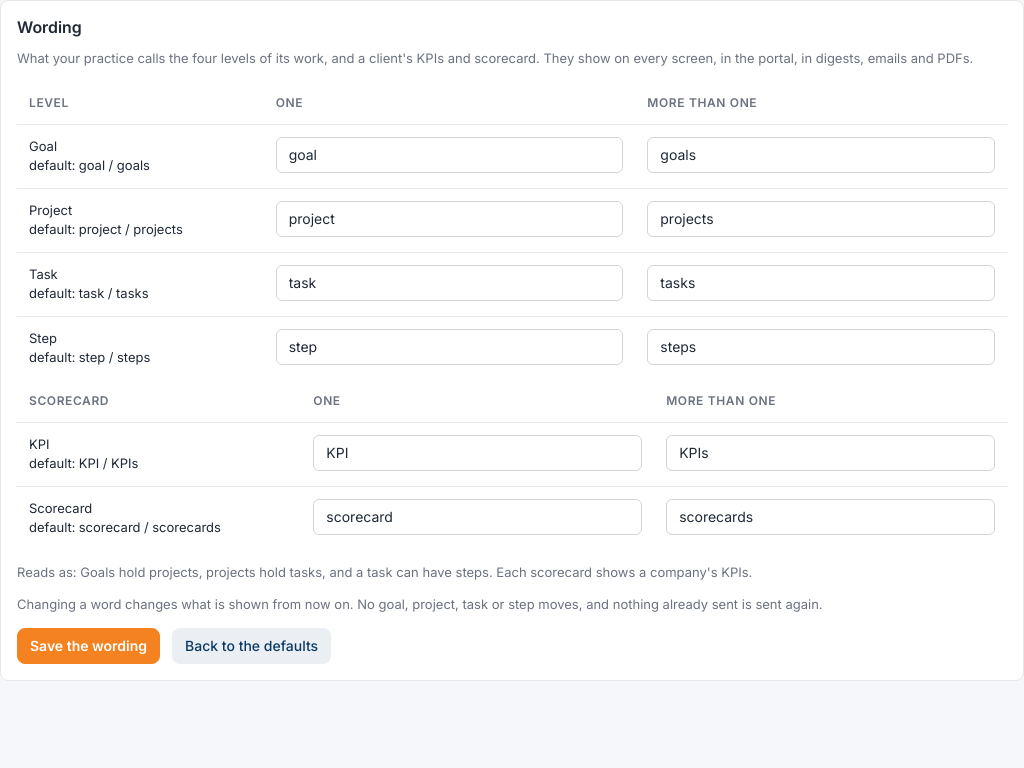
it: Settings → Branding → Wording › saves the four pairs and reads back how they sound together
Expected: the heading "Wording" is shown, [17,17,82,37]
Replace the text in the field named "Word for one task" with "action" at (449, 282), box [276,264,623,300]
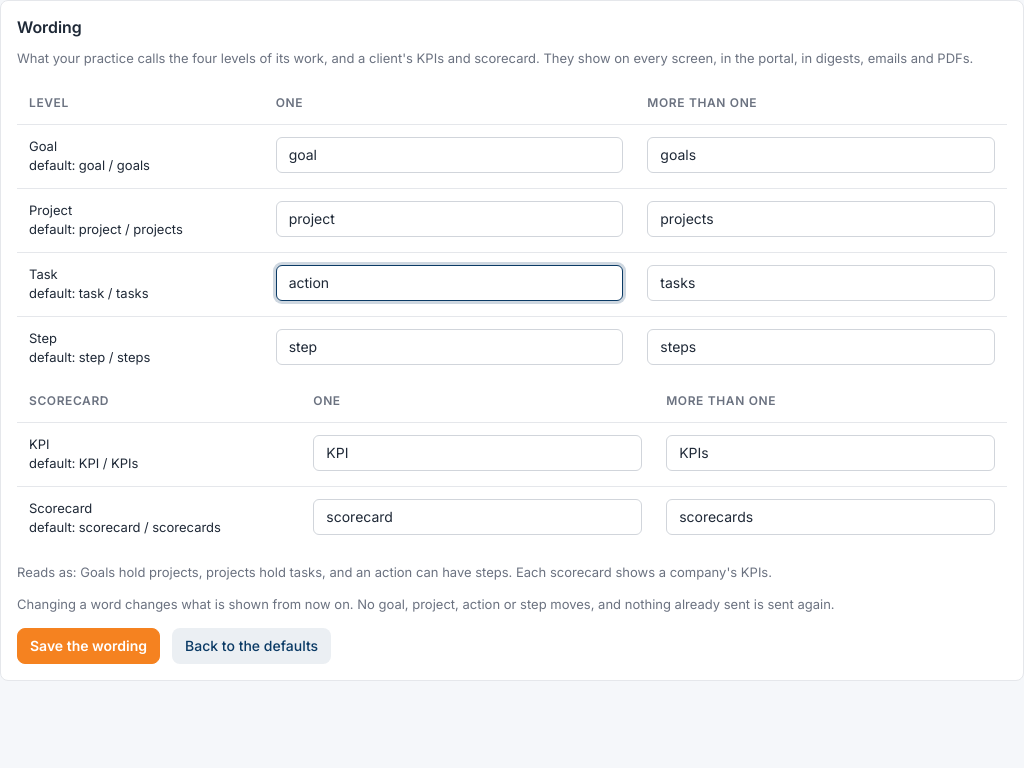
Replace the text in the field named "Word for more than one task" with "actions" at (821, 282), box [647,264,995,300]
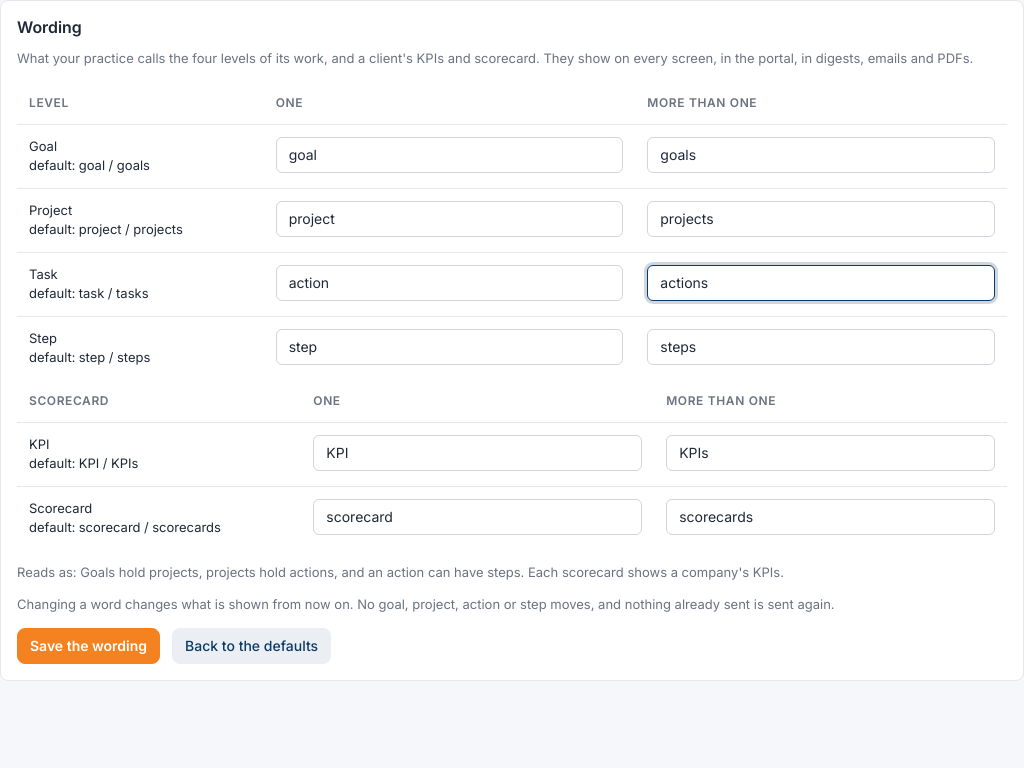
Now the text named "How it reads" shows "Reads as: Goals hold projects, projects hold actions, and an action can have steps.", box [17,564,784,580]
Click the button "Save the wording" at (89, 646), box [17,628,160,664]
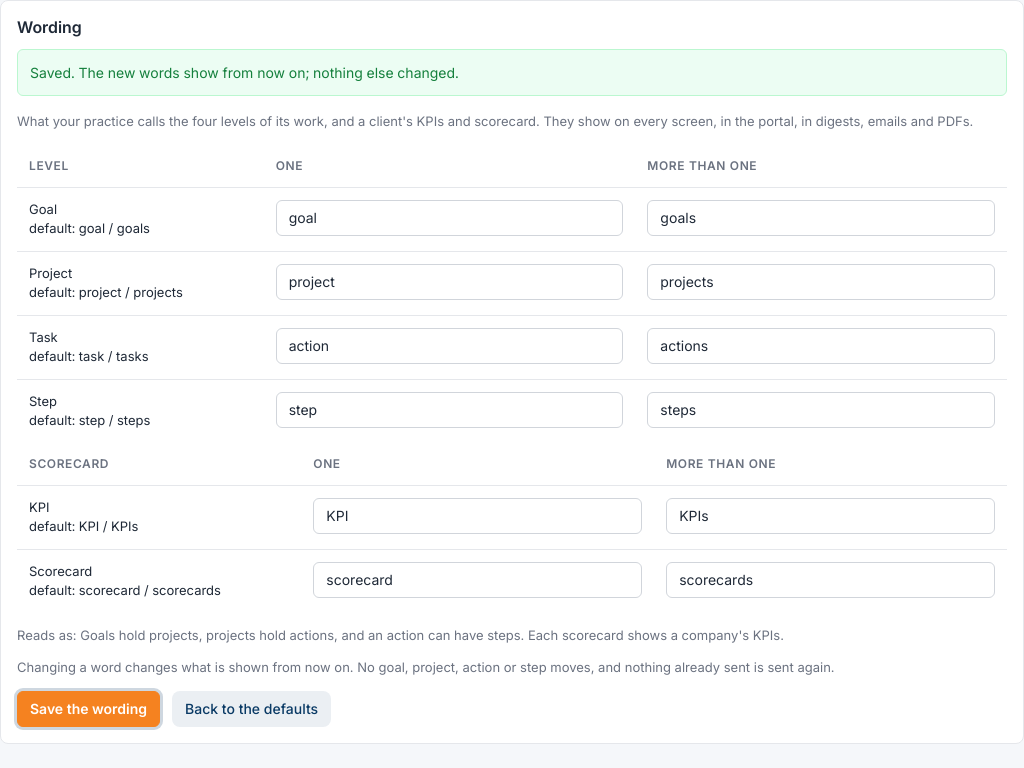
Now the text "Saved. The new words show from now on; nothing else changed." is shown, box [30,64,459,81]
